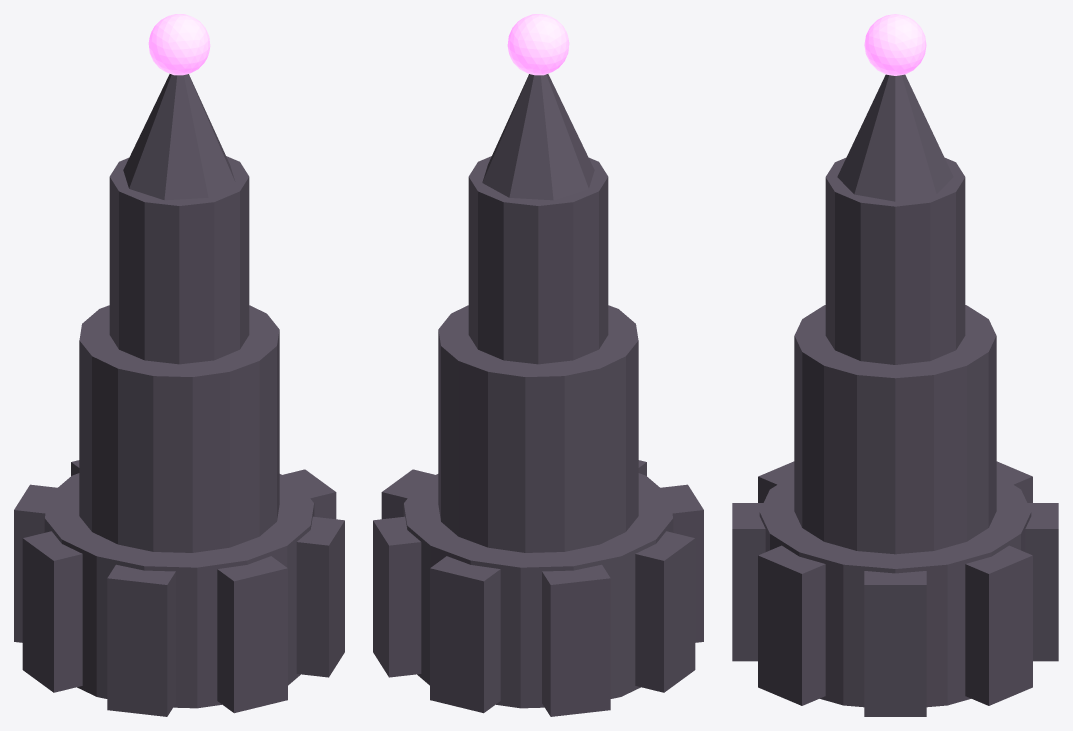
The model's file is structure_aster_arcane_tower.glb.
The picture shows the model from 3 angles, left to right: view 1: azimuth 30°, elevation 25°; view 2: azimuth 150°, elevation 25°; view 3: azimuth 270°, elevation 25°; orthographic projection.
Parts seen in each view (by area): view 1: Cylinder.001, Cylinder.002, Cylinder, Cube.006, Cube.005, Cone, Cube.004, Cube.007, Icosphere, Cube.003, Cube; view 2: Cylinder.001, Cylinder.002, Cylinder, Cube.002, Cube.003, Cone, Cube.004, Cube.001, Icosphere, Cube.005, Cube; view 3: Cylinder.001, Cylinder.002, Cylinder, Cube.001, Cube.007, Cube, Cone, Cube.002, Cube.006, Icosphere, Cube.003, Cube.005.
Part boxes in pixels (box(x1,y1,x2,y2)): Cylinder.001: box(79, 305, 279, 552); Cylinder.002: box(109, 156, 249, 364); Cylinder: box(44, 473, 314, 708); Cube.006: box(217, 556, 287, 713); Cube.005: box(107, 564, 175, 716); Cone: box(123, 74, 235, 200); Cube.004: box(22, 531, 82, 692); Cube.007: box(296, 516, 344, 677); Icosphere: box(148, 14, 210, 75); Cube.003: box(14, 484, 57, 642); Cube: box(283, 469, 336, 519); Cylinder.001: box(438, 305, 638, 552); Cylinder.002: box(468, 156, 608, 364); Cylinder: box(403, 473, 673, 708); Cube.002: box(430, 556, 500, 713); Cube.003: box(542, 564, 610, 716); Cone: box(482, 74, 594, 200); Cube.004: box(635, 531, 695, 692); Cube.001: box(373, 516, 421, 677); Icosphere: box(507, 14, 569, 75); Cube.005: box(660, 484, 703, 642); Cube: box(381, 469, 434, 519); Cylinder.001: box(794, 305, 996, 554); Cylinder.002: box(825, 158, 965, 364); Cylinder: box(759, 474, 1031, 707); Cube.001: box(965, 545, 1032, 705); Cube.007: box(758, 545, 825, 705); Cube: box(864, 571, 926, 716); Cone: box(837, 74, 953, 201); Cube.002: box(1025, 503, 1058, 661); Cube.006: box(732, 503, 765, 661); Icosphere: box(864, 14, 926, 75); Cube.003: box(996, 461, 1032, 502); Cube.005: box(758, 461, 794, 502).
Bounding box in the file's own units: 16.8 × 36.1 × 16.8.
